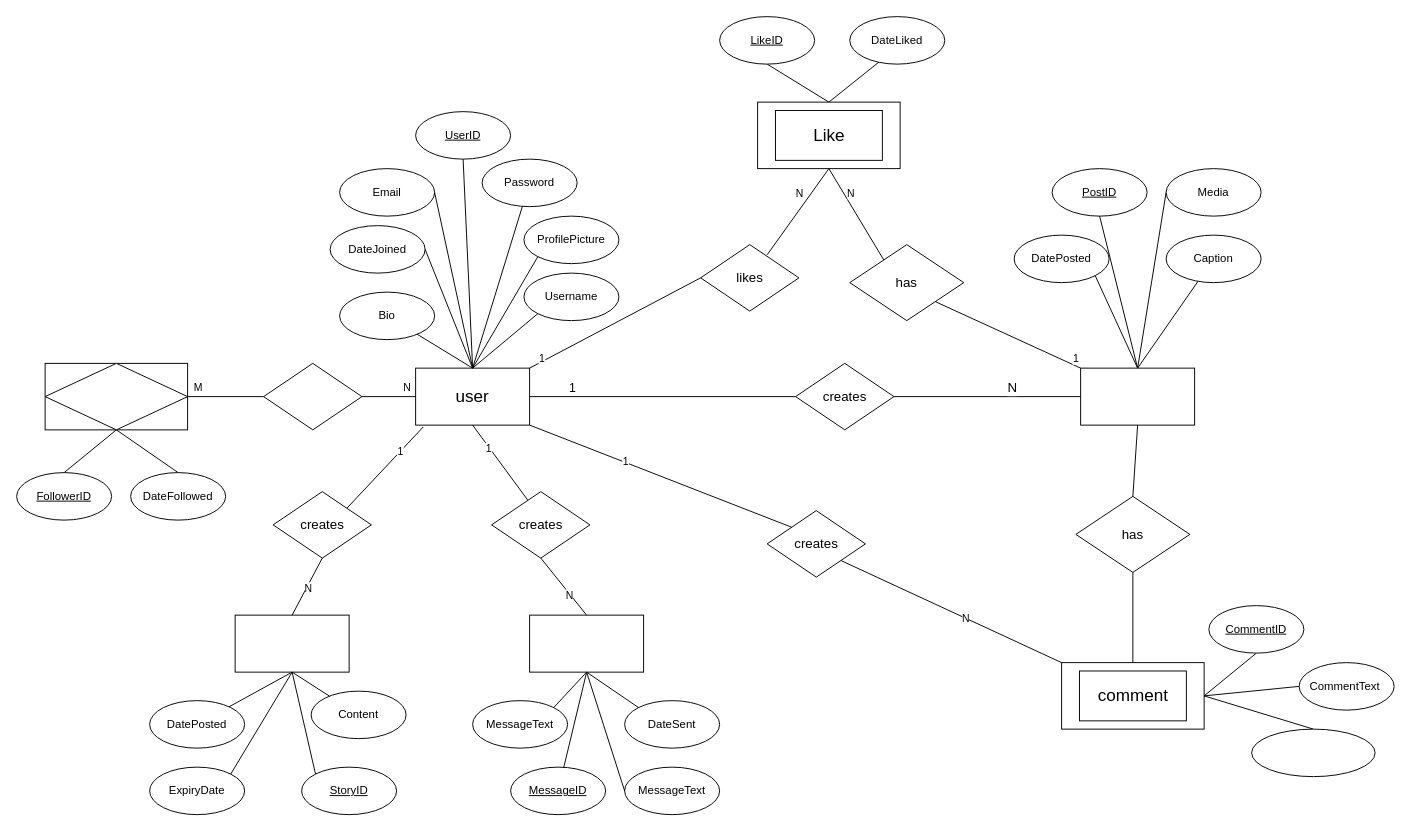
Some shapes in this 1411 by 831 pixel diagram are drawn without their labels. The box of each missing label's shape, as (x1, y1, x2, y2) in pixels:
DateCommented: (1251, 728, 1375, 777)
Direct Message: (529, 614, 644, 672)
Follow: (44, 362, 188, 430)
follows: (263, 362, 362, 430)
post: (1080, 367, 1195, 425)
story: (234, 614, 349, 672)
